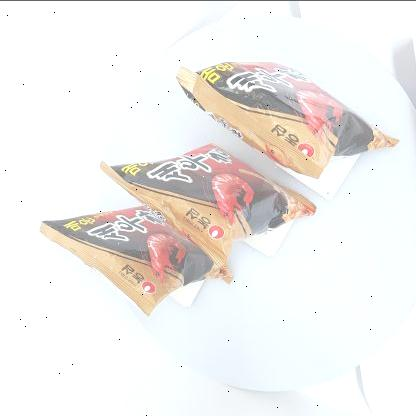Others: (35, 51, 402, 317)
